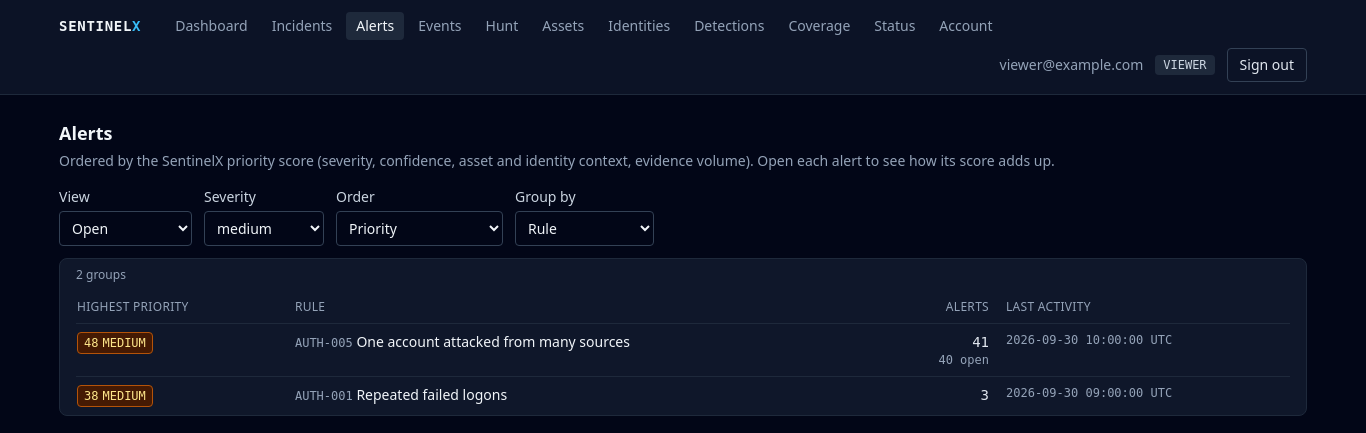
Grouped queue › groups the queue and opens a group as a narrowed queue
This screenshot has width=1366, height=433.
Click the link "AUTH-005 One account attacked from many sources": coordinates (462, 342) top-left (295, 332), bottom-right (630, 351)
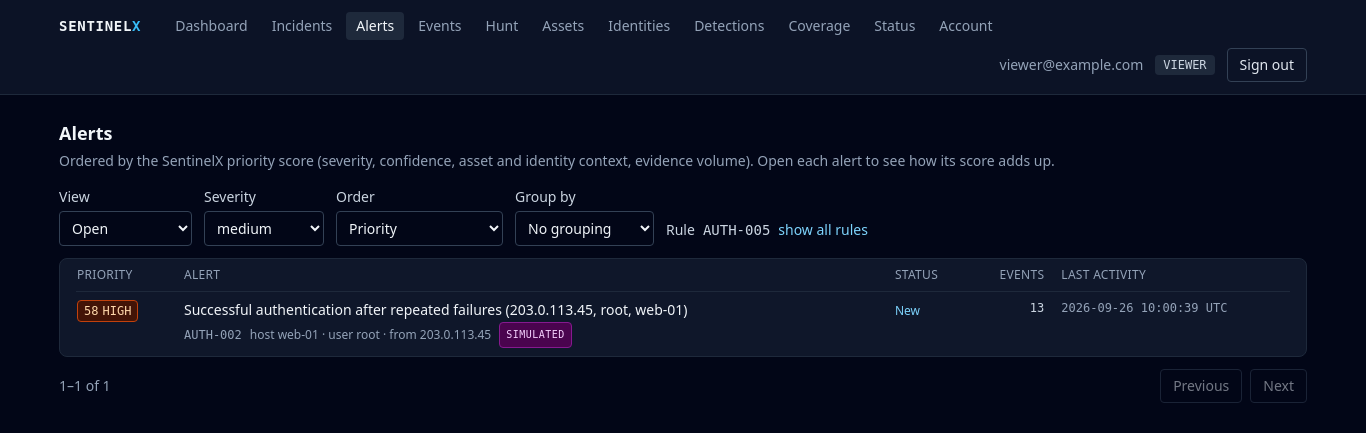
Expected: the text "AUTH-005" is shown, top-left (703, 220), bottom-right (770, 240)
Expected: the button "show all rules" is shown, top-left (778, 220), bottom-right (868, 240)
